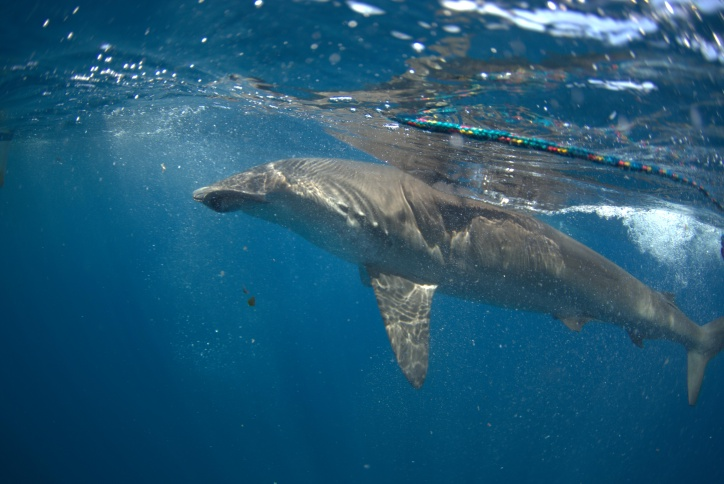Hammer: (160, 114, 724, 443)
